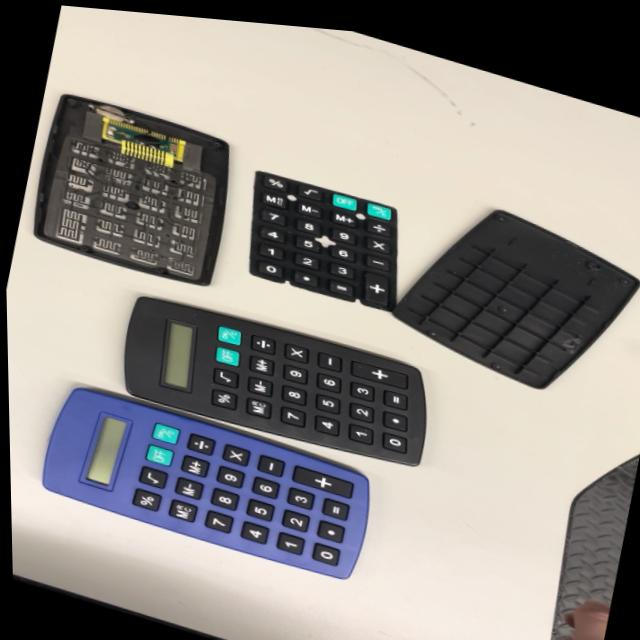back_cover: (386, 178, 640, 424)
calculator: (22, 368, 385, 595), (107, 282, 444, 486)
front_panel: (26, 79, 246, 295)
number_pad: (225, 160, 418, 320)
